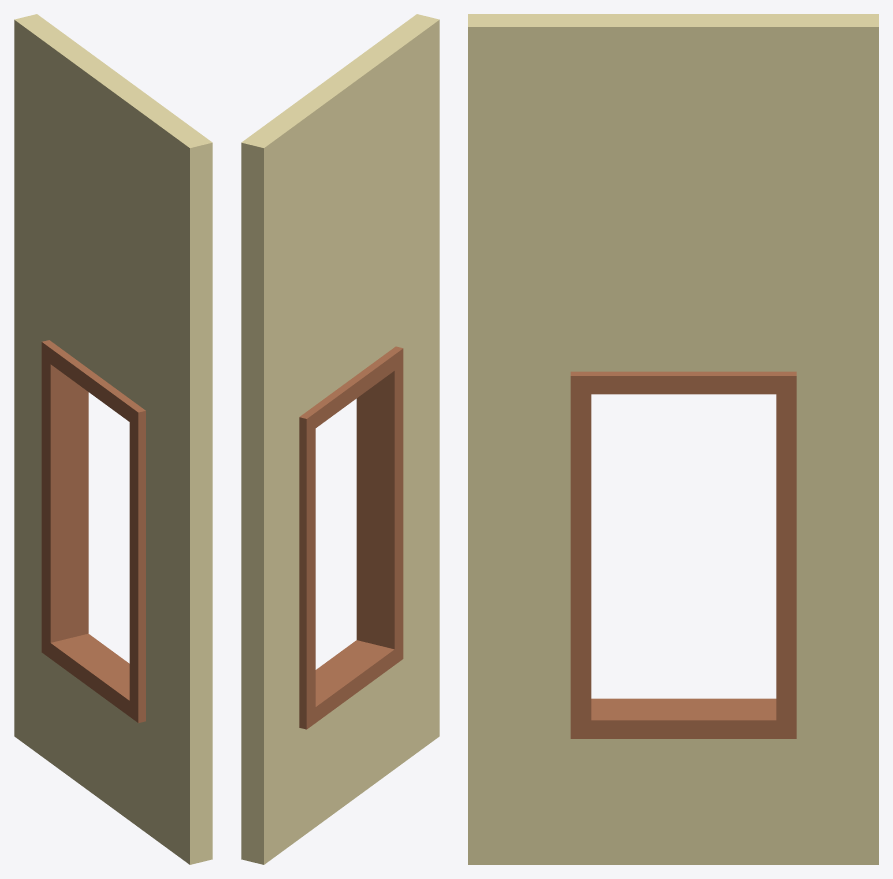
Rendered from Body&Mind_window.fbx.
The picture shows the model from 3 angles, left to right: view 1: azimuth 30°, elevation 25°; view 2: azimuth 150°, elevation 25°; view 3: azimuth 270°, elevation 25°; orthographic projection. The views are drawn at different scales.
Visible parts, largest first — view 1: WindowFrame1.002; view 2: WindowFrame1.002; view 3: WindowFrame1.002.
Boxes of the visible parts, box(x1,y1,x2,y2) form: WindowFrame1.002: box(14, 14, 212, 864); WindowFrame1.002: box(241, 14, 439, 864); WindowFrame1.002: box(468, 14, 878, 864).
Size of the model in its own units: 50 by 900 by 400.
